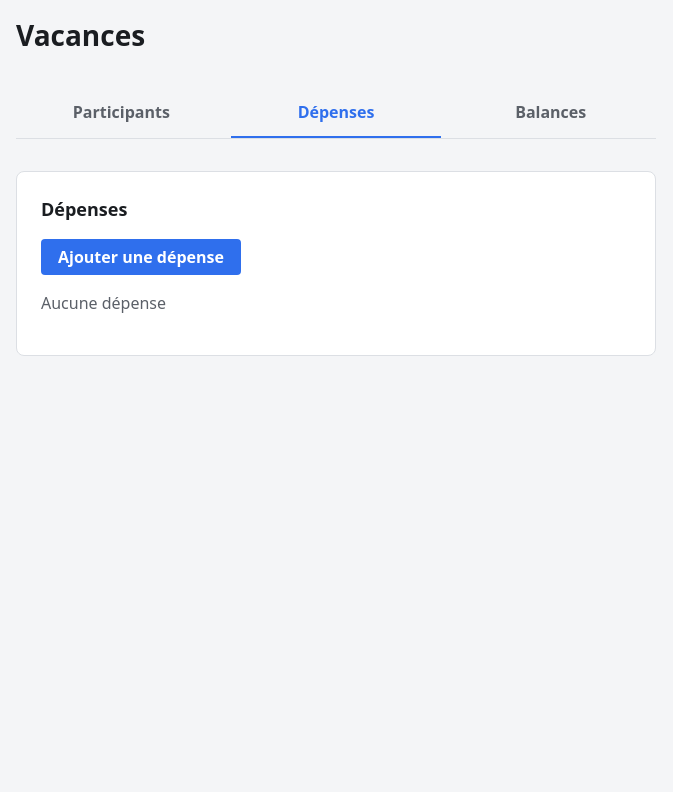
Test case: GroupView › rappelle fetchBalances et fetchSettlements après la création réussie d'une dépense
Expected: the heading "Vacances" is shown, left=16, top=16, right=145, bottom=54
Click the button "Ajouter une dépense": (141, 257) left=41, top=239, right=241, bottom=275
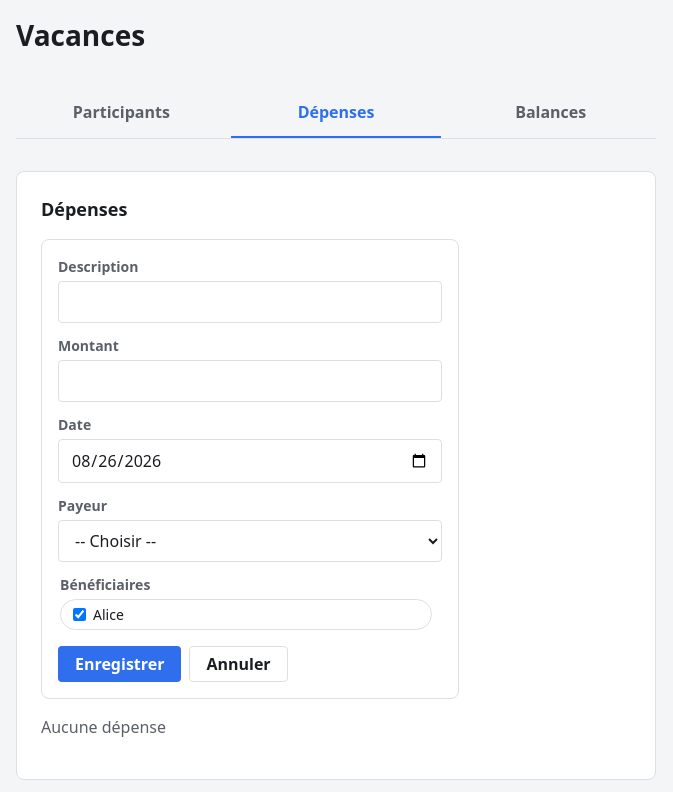
In the field labelled "Description": (250, 302) left=58, top=281, right=442, bottom=323, type "Restaurant"
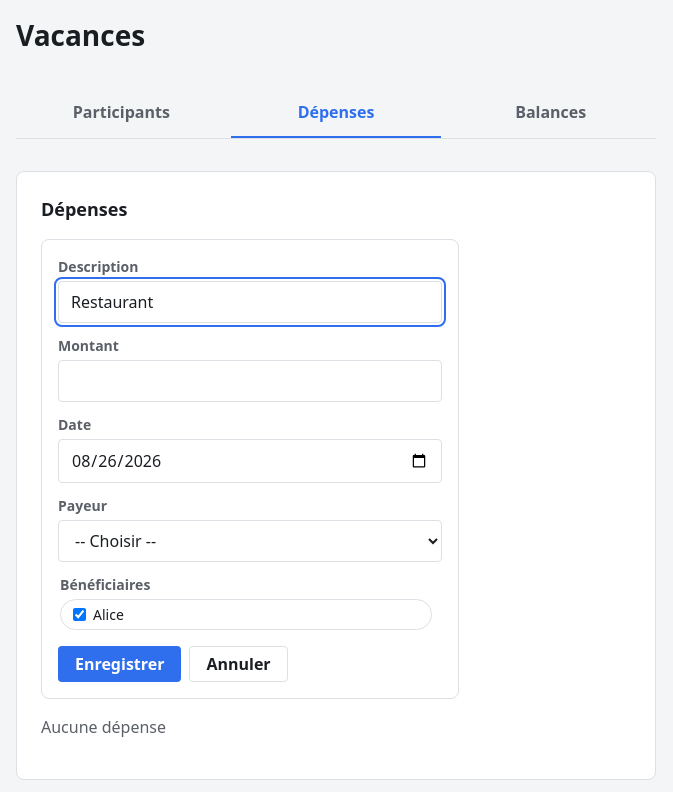
In the number field labelled "Montant": (250, 381) left=58, top=360, right=442, bottom=402, type "30"
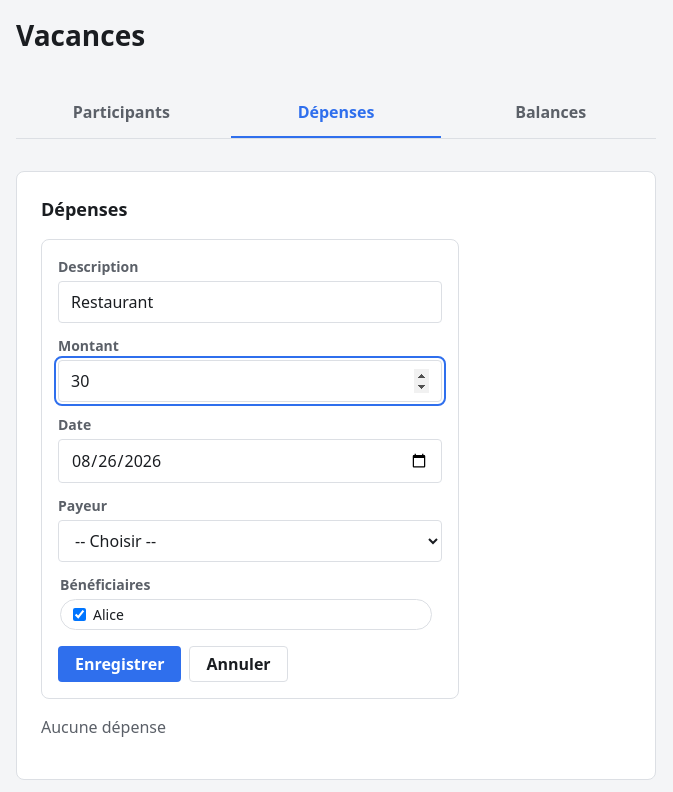
Select "Alice" in the dropdown labelled "Payeur": (250, 541) left=58, top=520, right=442, bottom=562
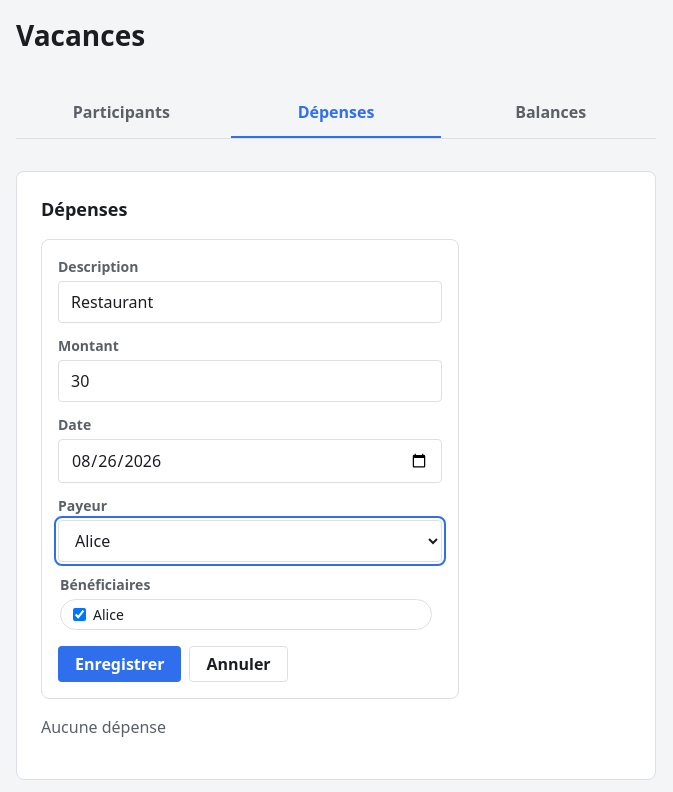
Click the button "Enregistrer": (120, 664) left=58, top=646, right=182, bottom=682
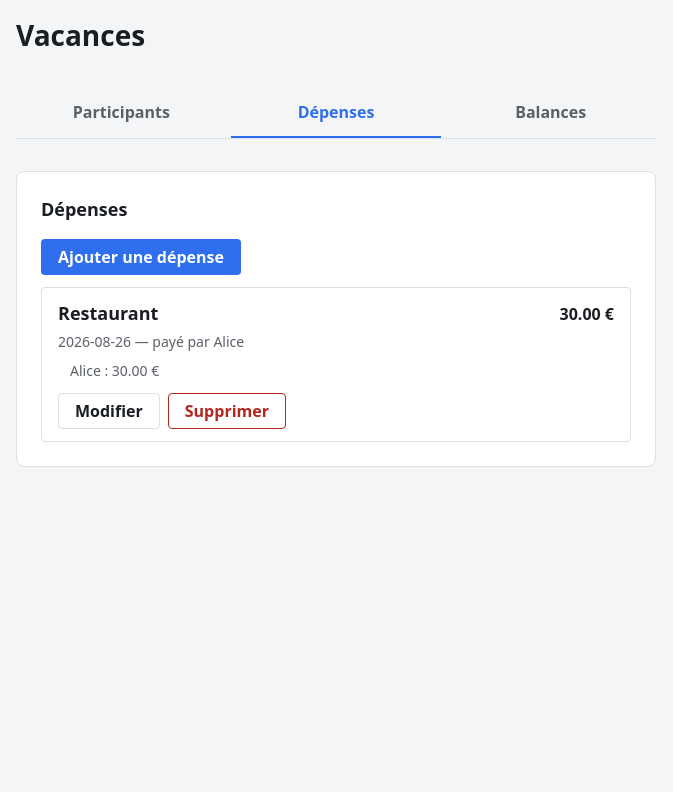
Result: the text "Restaurant" is shown at left=58, top=300, right=158, bottom=327
Result: the text "30.00 €" is shown at left=560, top=302, right=614, bottom=326
Result: the text "2026-08-26 — payé par Alice" is shown at left=58, top=332, right=244, bottom=351
